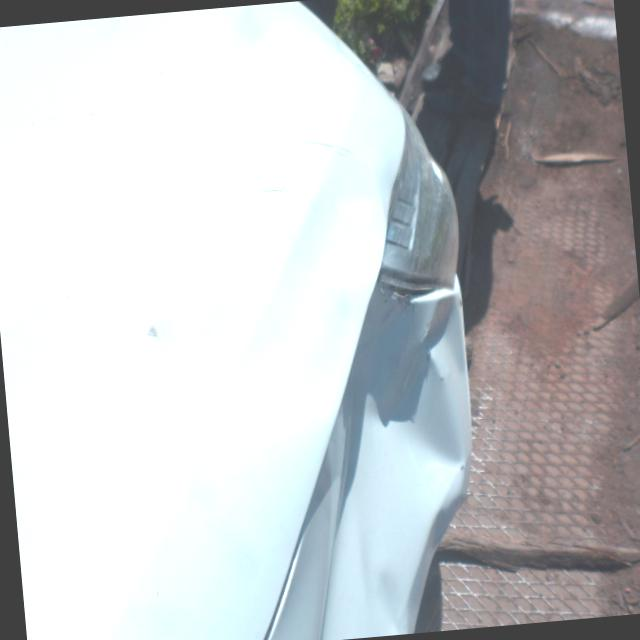Cabossage: (222, 281, 494, 640), (174, 120, 405, 441), (89, 335, 172, 516)
Rayure: (184, 128, 374, 255)
